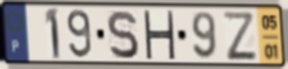1: (44, 7, 63, 61)
9: (65, 8, 93, 60), (191, 10, 219, 61)
H: (141, 9, 177, 62)
S: (105, 9, 141, 61)
Z: (220, 10, 259, 62)
